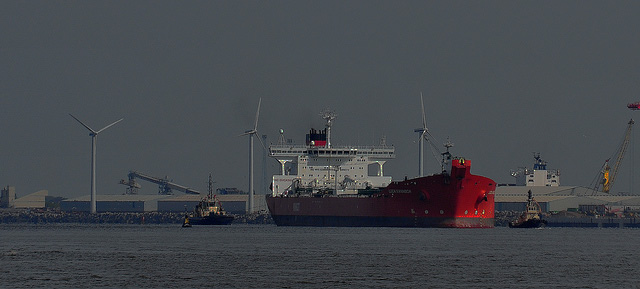tanker: (263, 115, 500, 227)
tug_boat: (192, 173, 237, 226), (509, 186, 547, 230)
